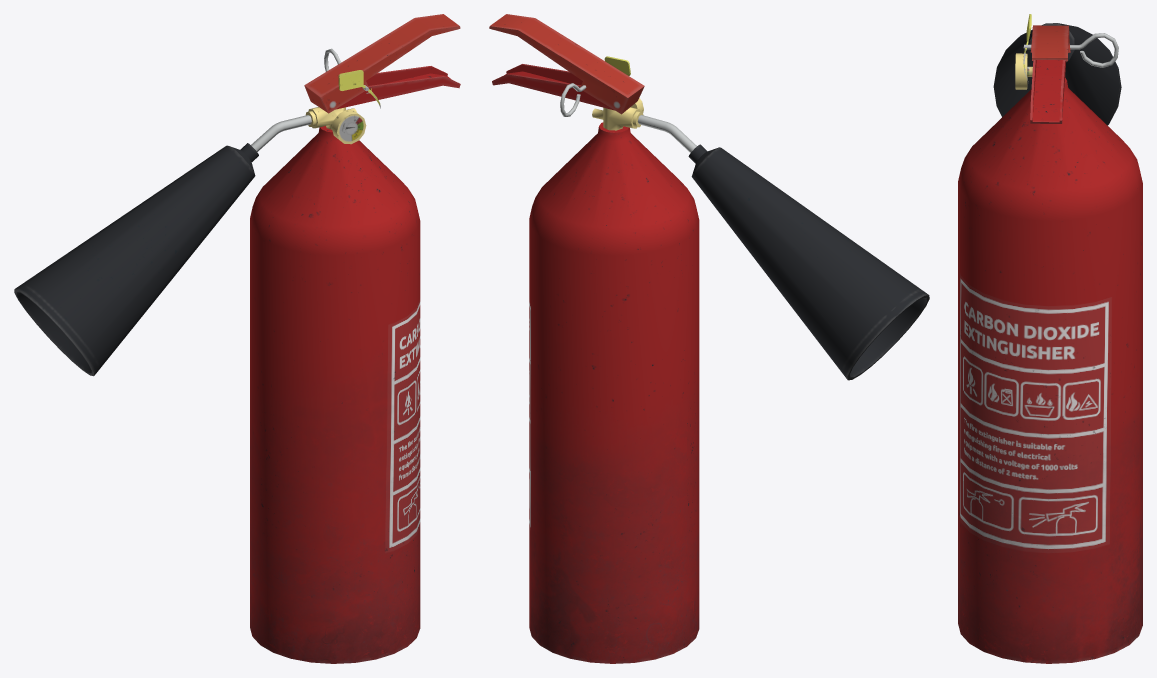
File: SM_Fire_Extinguisher.fbx
The picture shows the model from 3 angles, left to right: view 1: azimuth 30°, elevation 25°; view 2: azimuth 150°, elevation 25°; view 3: azimuth 270°, elevation 25°; orthographic projection. The views are drawn at different scales.
Visible parts, largest first — view 1: body_LOD0, cone_LOD0, handle_top_LOD0, handle_bottom_LOD0, barometer_LOD0, pipe_LOD0; view 2: body_LOD0, cone_LOD0, handle_top_LOD0, handle_bottom_LOD0, valve_LOD0, pipe_LOD0; view 3: body_LOD0, cone_LOD0, handle_bottom_LOD0, handle_top_LOD0, pin_LOD0, barometer_LOD0.
Boxes of the visible parts, x1=… form: body_LOD0: x1=250, y1=126, x2=420, y2=663; cone_LOD0: x1=14, y1=143, x2=258, y2=376; handle_top_LOD0: x1=304, y1=14, x2=460, y2=113; handle_bottom_LOD0: x1=335, y1=66, x2=460, y2=109; barometer_LOD0: x1=332, y1=110, x2=366, y2=144; pipe_LOD0: x1=251, y1=115, x2=311, y2=152; body_LOD0: x1=529, y1=122, x2=699, y2=663; cone_LOD0: x1=688, y1=144, x2=929, y2=380; handle_top_LOD0: x1=489, y1=14, x2=644, y2=114; handle_bottom_LOD0: x1=492, y1=64, x2=614, y2=110; valve_LOD0: x1=592, y1=107, x2=643, y2=130; pipe_LOD0: x1=637, y1=115, x2=696, y2=152; body_LOD0: x1=958, y1=77, x2=1142, y2=663; cone_LOD0: x1=993, y1=23, x2=1121, y2=125; handle_bottom_LOD0: x1=1030, y1=60, x2=1066, y2=123; handle_top_LOD0: x1=1030, y1=25, x2=1070, y2=61; pin_LOD0: x1=1023, y1=33, x2=1118, y2=67; barometer_LOD0: x1=1015, y1=53, x2=1027, y2=89.
Size of what is drawn, in the model's own units: 43.02 by 56.61 by 15.
